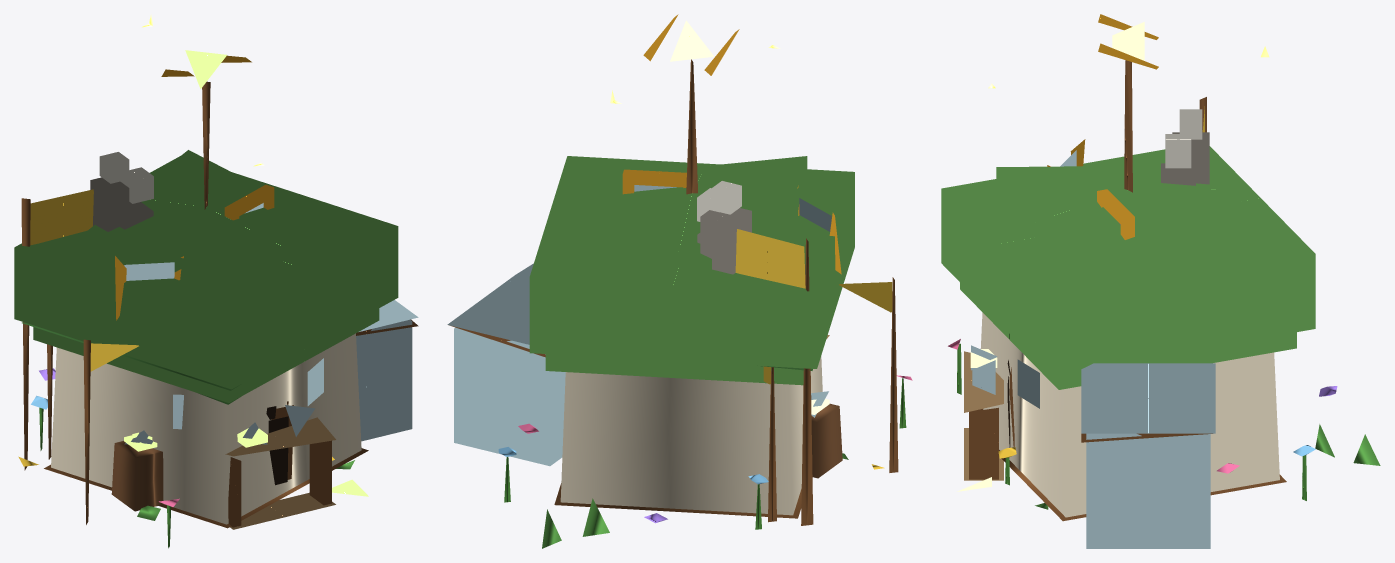
File: pollen-lab-blocky_lod2.glb
The picture shows the model from 3 angles, left to right: view 1: azimuth 30°, elevation 25°; view 2: azimuth 150°, elevation 25°; view 3: azimuth 270°, elevation 25°; orthographic projection. The views are drawn at different scales.
Visible parts, largest first — view 1: lv3, lv2, lv1; view 2: lv3, lv2, lv1; view 3: lv3, lv2.
Boxes of the visible parts, x1,y1,x2,y2 form: lv3: (14, 14, 418, 548); lv2: (31, 167, 379, 529); lv1: (111, 430, 354, 520); lv3: (447, 14, 912, 548); lv2: (518, 169, 829, 536); lv1: (811, 391, 848, 478); lv3: (941, 14, 1380, 548); lv2: (960, 134, 1334, 480).
Size of the model in its own units: 1.8 by 1.9 by 1.76.
